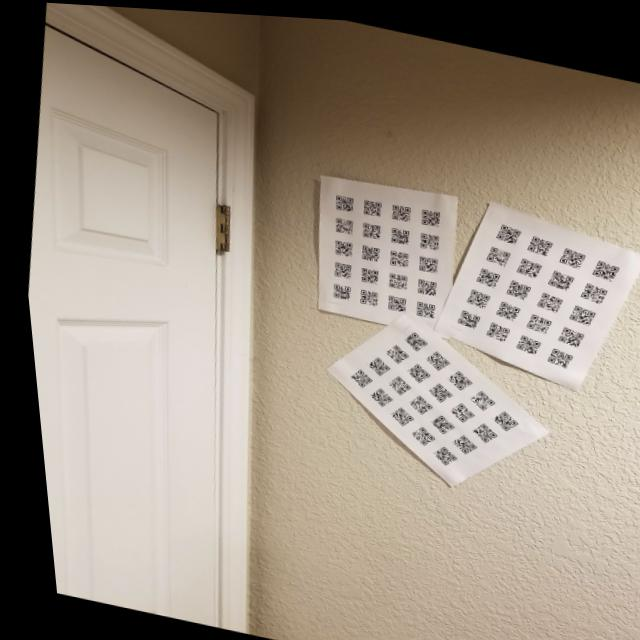QR_CODE: (582, 248, 620, 279), (570, 272, 608, 301), (459, 413, 495, 443), (480, 401, 517, 430), (517, 225, 552, 255), (558, 295, 595, 323), (548, 317, 585, 345), (335, 359, 369, 389), (507, 248, 541, 277), (373, 335, 407, 364), (550, 237, 585, 265), (439, 427, 475, 454), (421, 439, 457, 466), (356, 347, 389, 376), (378, 398, 411, 427), (457, 382, 491, 410), (526, 283, 561, 310), (487, 214, 520, 242), (466, 258, 499, 286), (393, 322, 426, 350), (396, 355, 429, 383), (322, 184, 356, 211), (477, 237, 511, 264), (538, 261, 572, 288), (485, 292, 519, 319), (517, 305, 551, 332), (358, 380, 392, 407), (436, 361, 468, 389), (410, 199, 443, 226), (397, 387, 430, 414), (536, 339, 570, 365), (437, 395, 471, 421), (506, 326, 538, 353), (400, 420, 433, 446), (457, 280, 489, 306), (475, 313, 507, 339), (446, 302, 479, 327), (409, 223, 439, 250), (417, 343, 447, 370), (418, 375, 449, 401), (496, 271, 528, 296), (381, 195, 412, 220), (378, 368, 407, 394), (421, 408, 450, 433), (353, 191, 383, 215), (325, 210, 355, 234), (379, 243, 409, 267), (377, 265, 407, 289), (382, 220, 410, 245), (376, 287, 405, 311), (351, 216, 381, 239), (405, 294, 434, 317), (323, 276, 350, 300), (349, 282, 376, 306), (351, 238, 379, 261), (410, 248, 438, 271), (351, 260, 379, 283), (407, 271, 435, 294), (325, 233, 352, 256), (323, 255, 350, 278)
